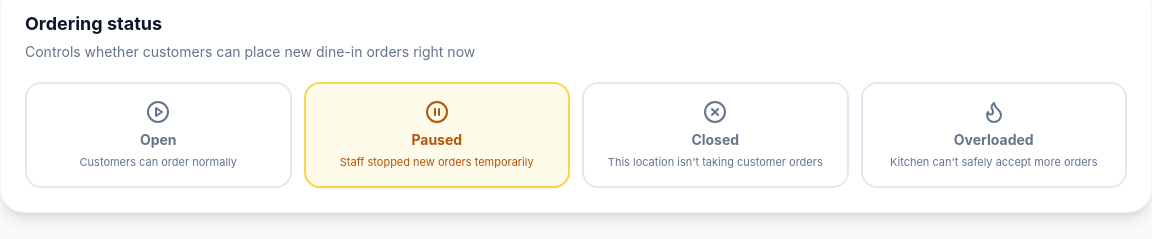
Test case: OrderingStatusControl › applies OPEN immediately without a confirmation dialog
Click the button "Open Customers can order normally".
click(158, 135)  # box [25,82,292,188]
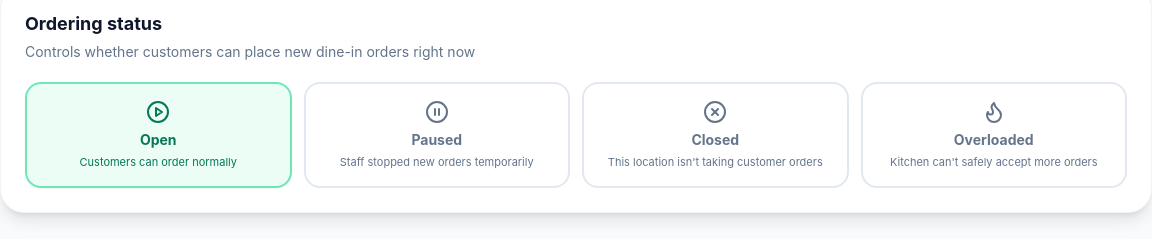
Check: the button "Open Customers can order normally" is pressed, box [25,82,292,188]
